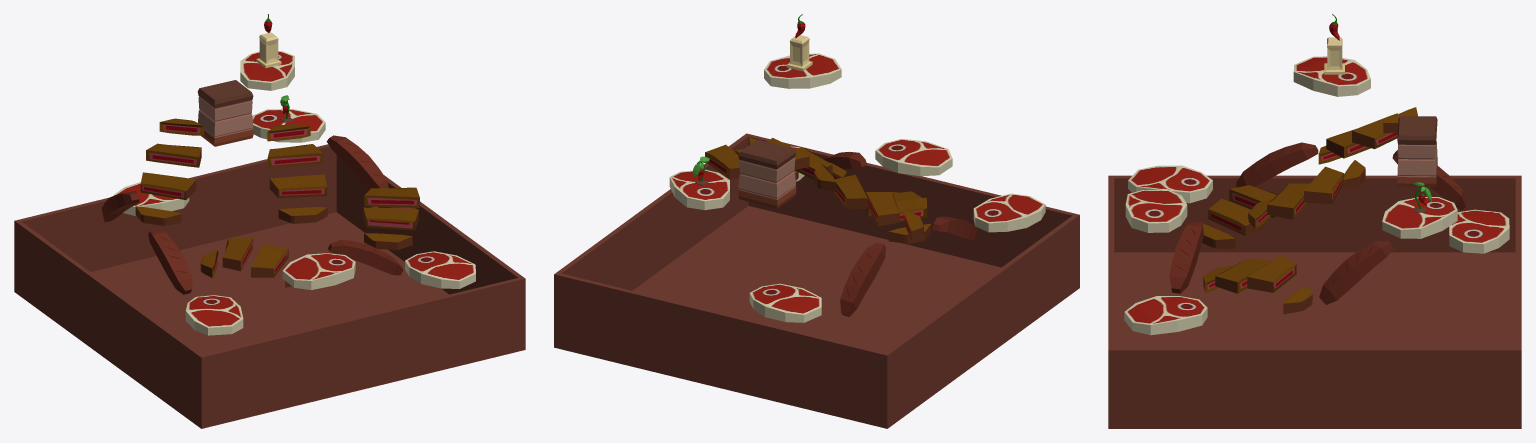
Rendered from Level0.fbx.
3 renders of one model, left to right at view 1: azimuth 30°, elevation 25°; view 2: azimuth 150°, elevation 25°; view 3: azimuth 270°, elevation 25°, orthographic. The views are drawn at different scales.
Visible parts, largest first — view 1: Cube.004, hole, Cube.003, Cube.001, Cube.002, steak.009, steak.008, Pork belly.001, steak.005, steak.003, steak.004, steak.006 (+9 smaller); view 2: hole, Cube.003, Cube.001, Cube.004, Cube.002, Pork belly.001, steak.008, steak.004, steak.012, steak.011, steak.010, steak.007 (+7 smaller); view 3: hole, Cube.002, Cube.001, steak.005, steak.009, Pork belly.001, steak.006, steak.003, steak.007, steak.004, steak.012, steak.010 (+9 smaller).
Boxes of the visible parts, x1,y1,x2,y2 form: Cube.004: (204,278,520,423); hole: (14,212,525,428); Cube.003: (19,144,336,271); Cube.001: (14,219,205,424); Cube.002: (336,155,525,346); steak.009: (267,124,327,223); steak.008: (135,118,203,225); Pork belly.001: (197,80,253,146); steak.005: (363,187,419,249); steak.003: (200,238,291,287); steak.004: (282,253,355,289); steak.006: (405,251,475,288); hole: (554,206,1079,428); Cube.003: (558,273,884,423); Cube.001: (882,213,1079,424); Cube.004: (748,134,1074,267); Cube.002: (554,133,750,344); Pork belly.001: (738,139,796,208); steak.008: (814,163,923,240); steak.004: (875,139,952,176); steak.012: (749,283,821,322); steak.011: (973,193,1045,232); steak.010: (764,53,841,88); steak.007: (669,169,729,210); hole: (1108,252,1521,428); Cube.002: (1108,348,1521,424); Cube.001: (1108,175,1521,252); steak.005: (1203,255,1312,314); steak.009: (1248,160,1365,228); Pork belly.001: (1397,116,1437,186); steak.006: (1124,296,1207,335); steak.003: (1198,185,1277,248); steak.007: (1382,197,1457,238); steak.004: (1125,190,1187,232); steak.012: (1449,209,1509,253); steak.010: (1293,56,1370,96).
Size of the model in its own units: 5974 by 5278 by 5974.
Materials: 18 (3 with a texture image).
